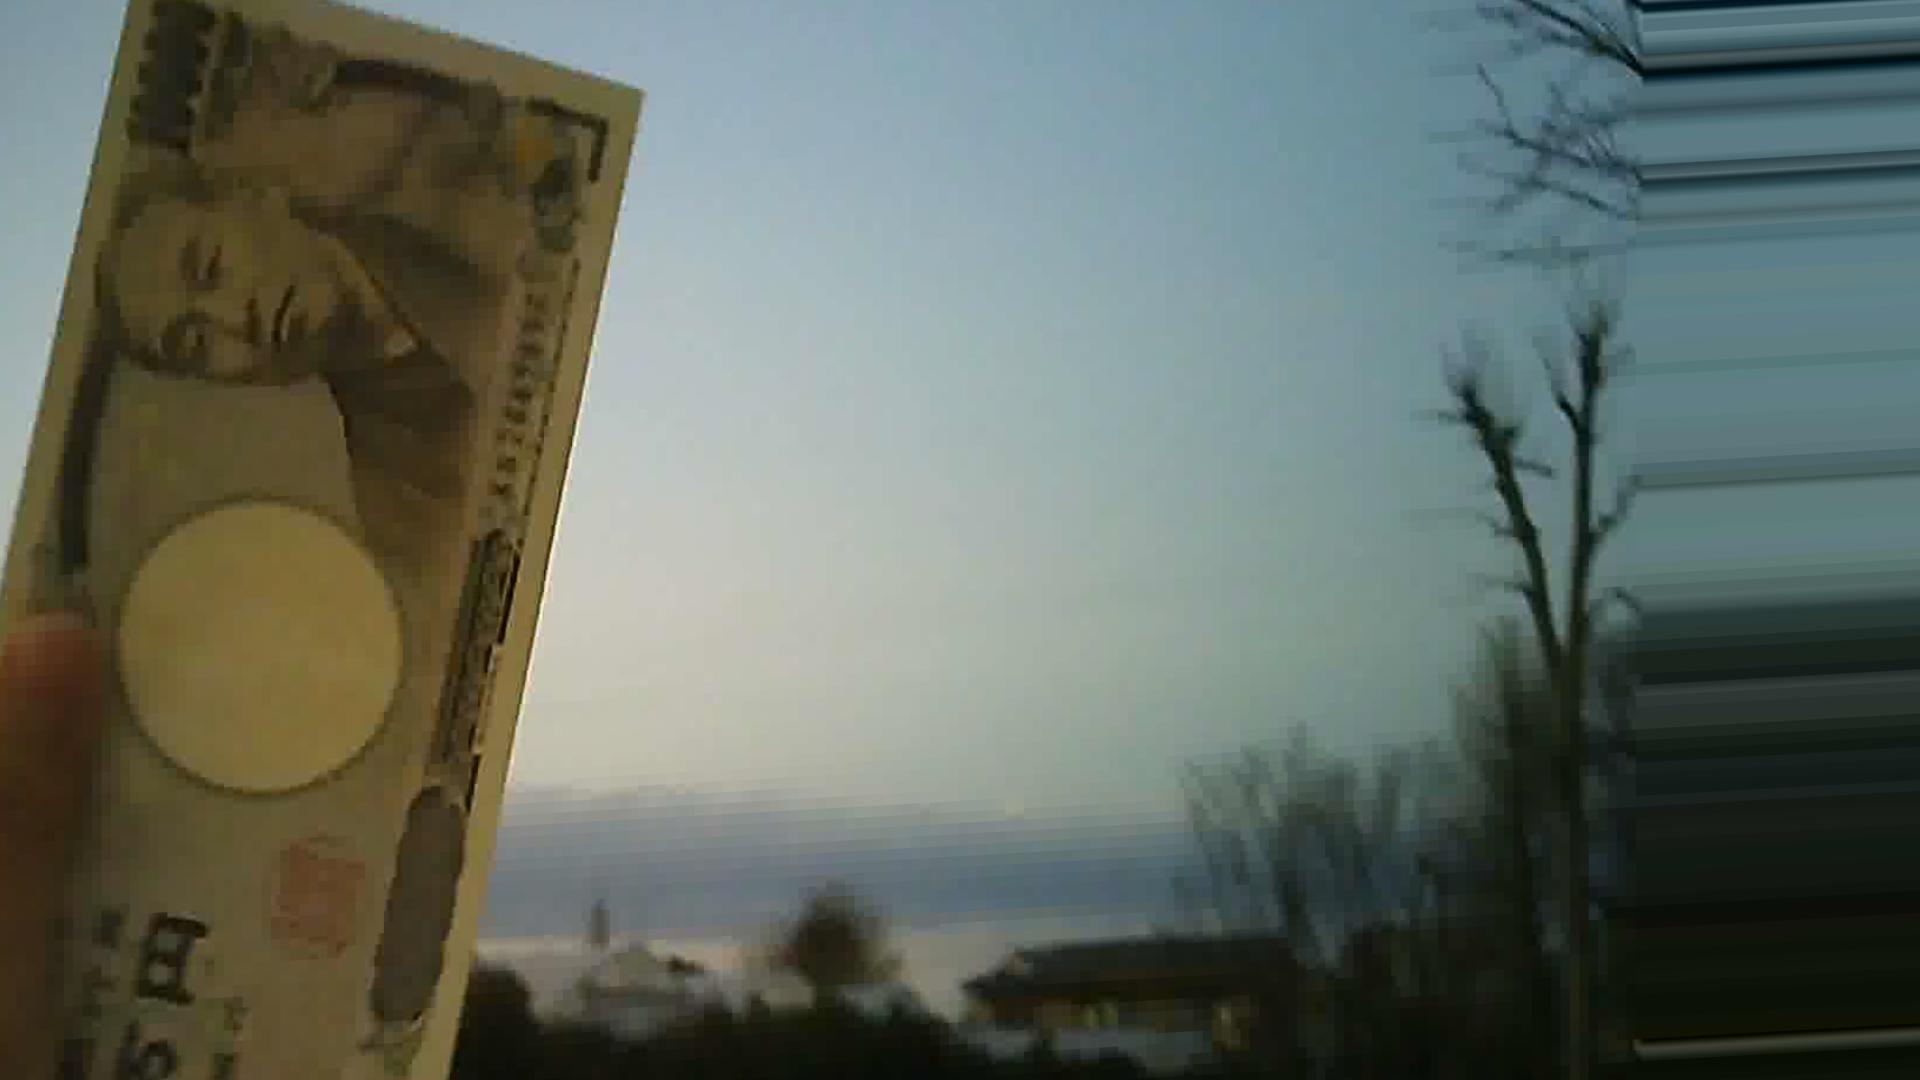10,000 Yen: (21, 3, 662, 1079)
